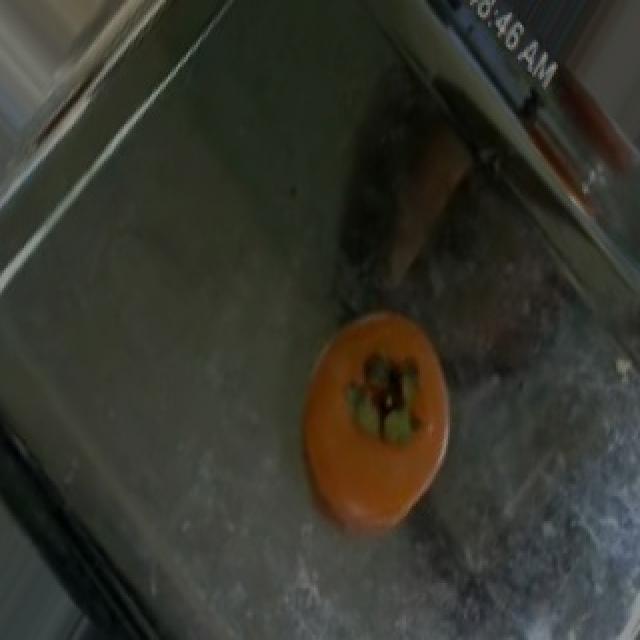Fruit: (274, 293, 476, 553)
